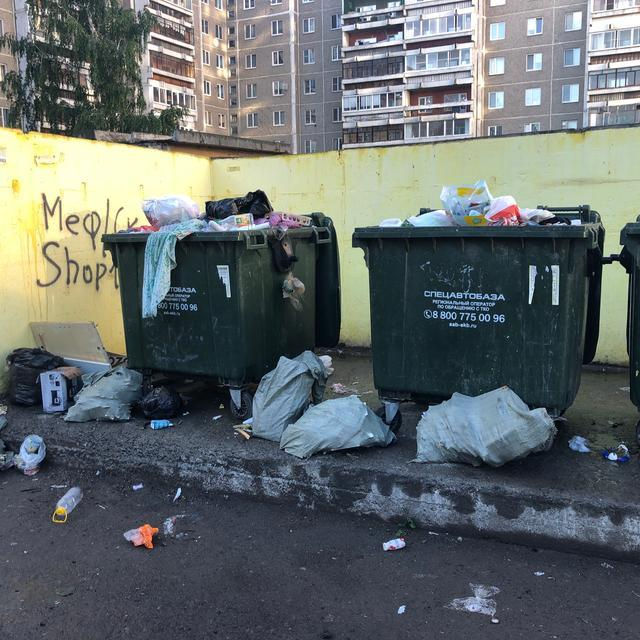Trash_Can_Full: (351, 178, 600, 414), (103, 189, 319, 383)
